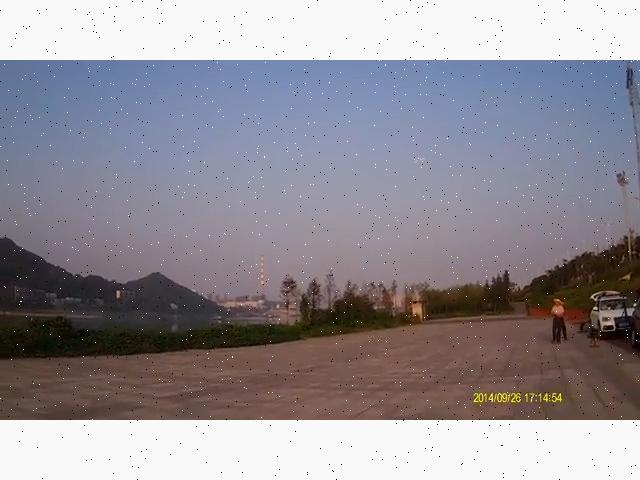Anti-Drone: (404, 152, 430, 168)
